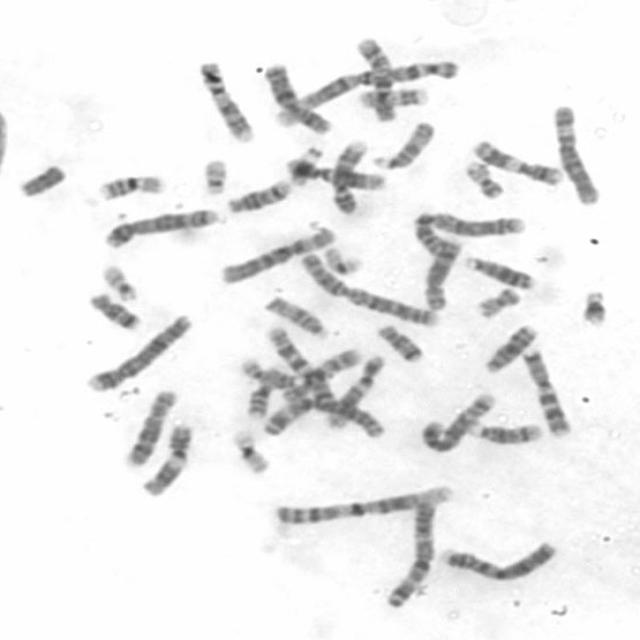A1: (269, 59, 462, 131), (273, 482, 457, 528)
A2: (298, 251, 441, 328), (411, 208, 528, 257)
A3: (380, 499, 440, 611), (261, 397, 386, 438)
B4: (84, 311, 194, 393), (436, 539, 560, 582)
B5: (420, 390, 497, 456), (102, 208, 219, 250)
C10: (278, 348, 362, 402), (349, 35, 399, 123)
C11: (136, 422, 194, 502), (470, 138, 563, 186)
C12: (325, 353, 388, 433), (282, 157, 388, 193)
C6: (219, 227, 338, 284), (552, 101, 602, 206)
C7: (265, 324, 337, 406), (521, 347, 573, 440)
C8: (126, 387, 180, 468), (421, 242, 463, 312)
C9: (196, 60, 256, 145), (330, 140, 369, 216)
D13: (482, 322, 541, 377), (462, 251, 538, 291)
D14: (222, 179, 293, 217), (458, 416, 544, 446)
D15: (260, 294, 342, 340), (369, 118, 437, 172)
E16: (241, 366, 285, 418), (95, 173, 167, 203)
E17: (240, 357, 305, 389), (357, 85, 432, 108)
E18: (88, 290, 143, 333), (378, 322, 426, 364)
F19: (232, 430, 272, 478), (321, 245, 369, 278)
F20: (475, 283, 525, 321), (460, 161, 506, 200)
G21: (285, 145, 326, 189), (578, 286, 612, 329)
G22: (100, 263, 141, 302), (202, 155, 228, 197)
Y: (16, 161, 70, 198)
